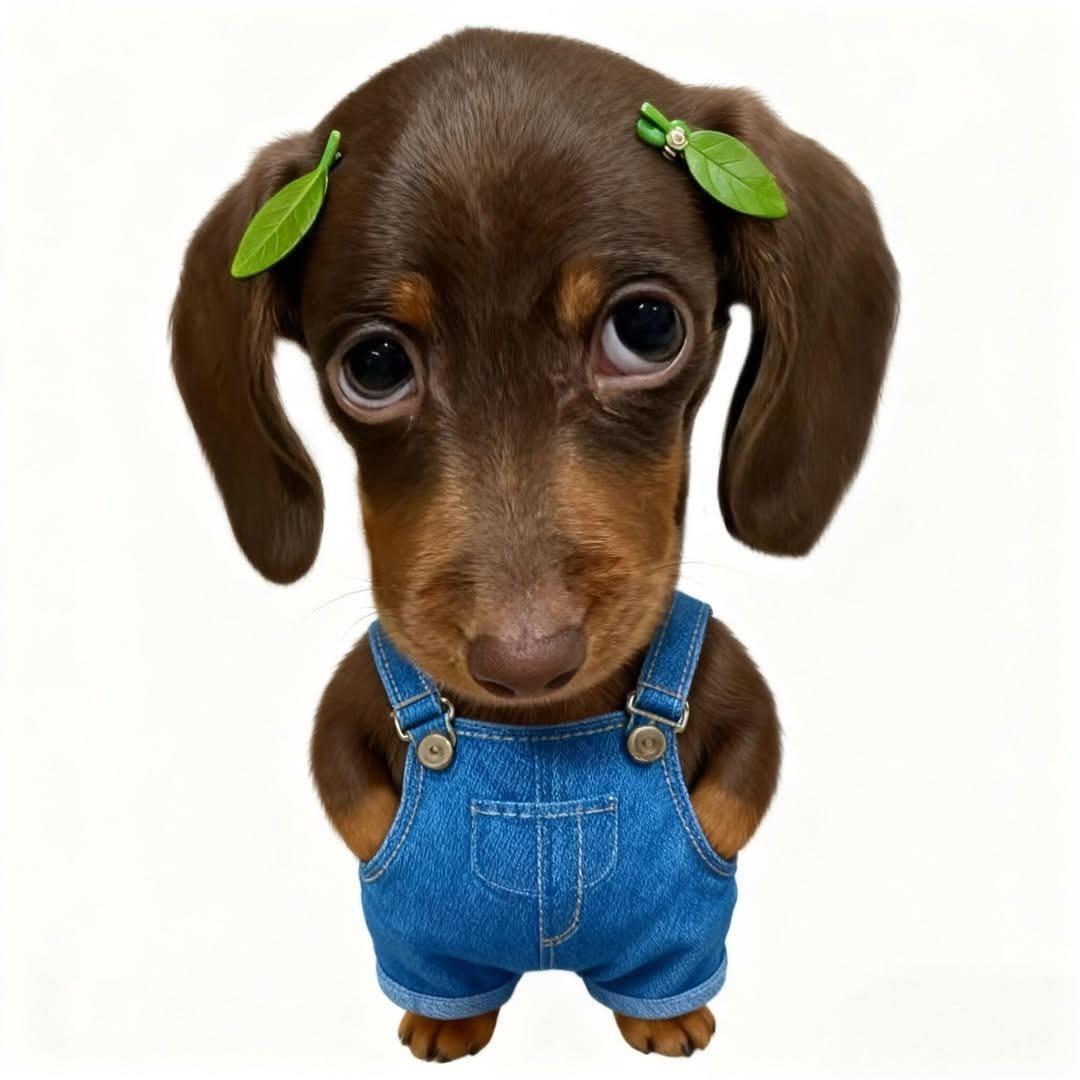puppy-dog: (167, 21, 906, 1065)
